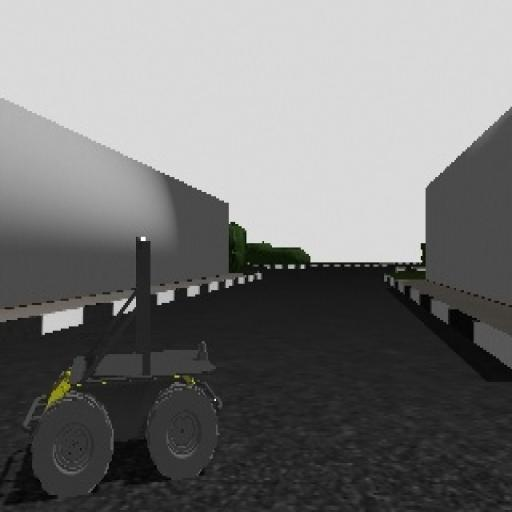huskya200: (16, 227, 238, 505)
